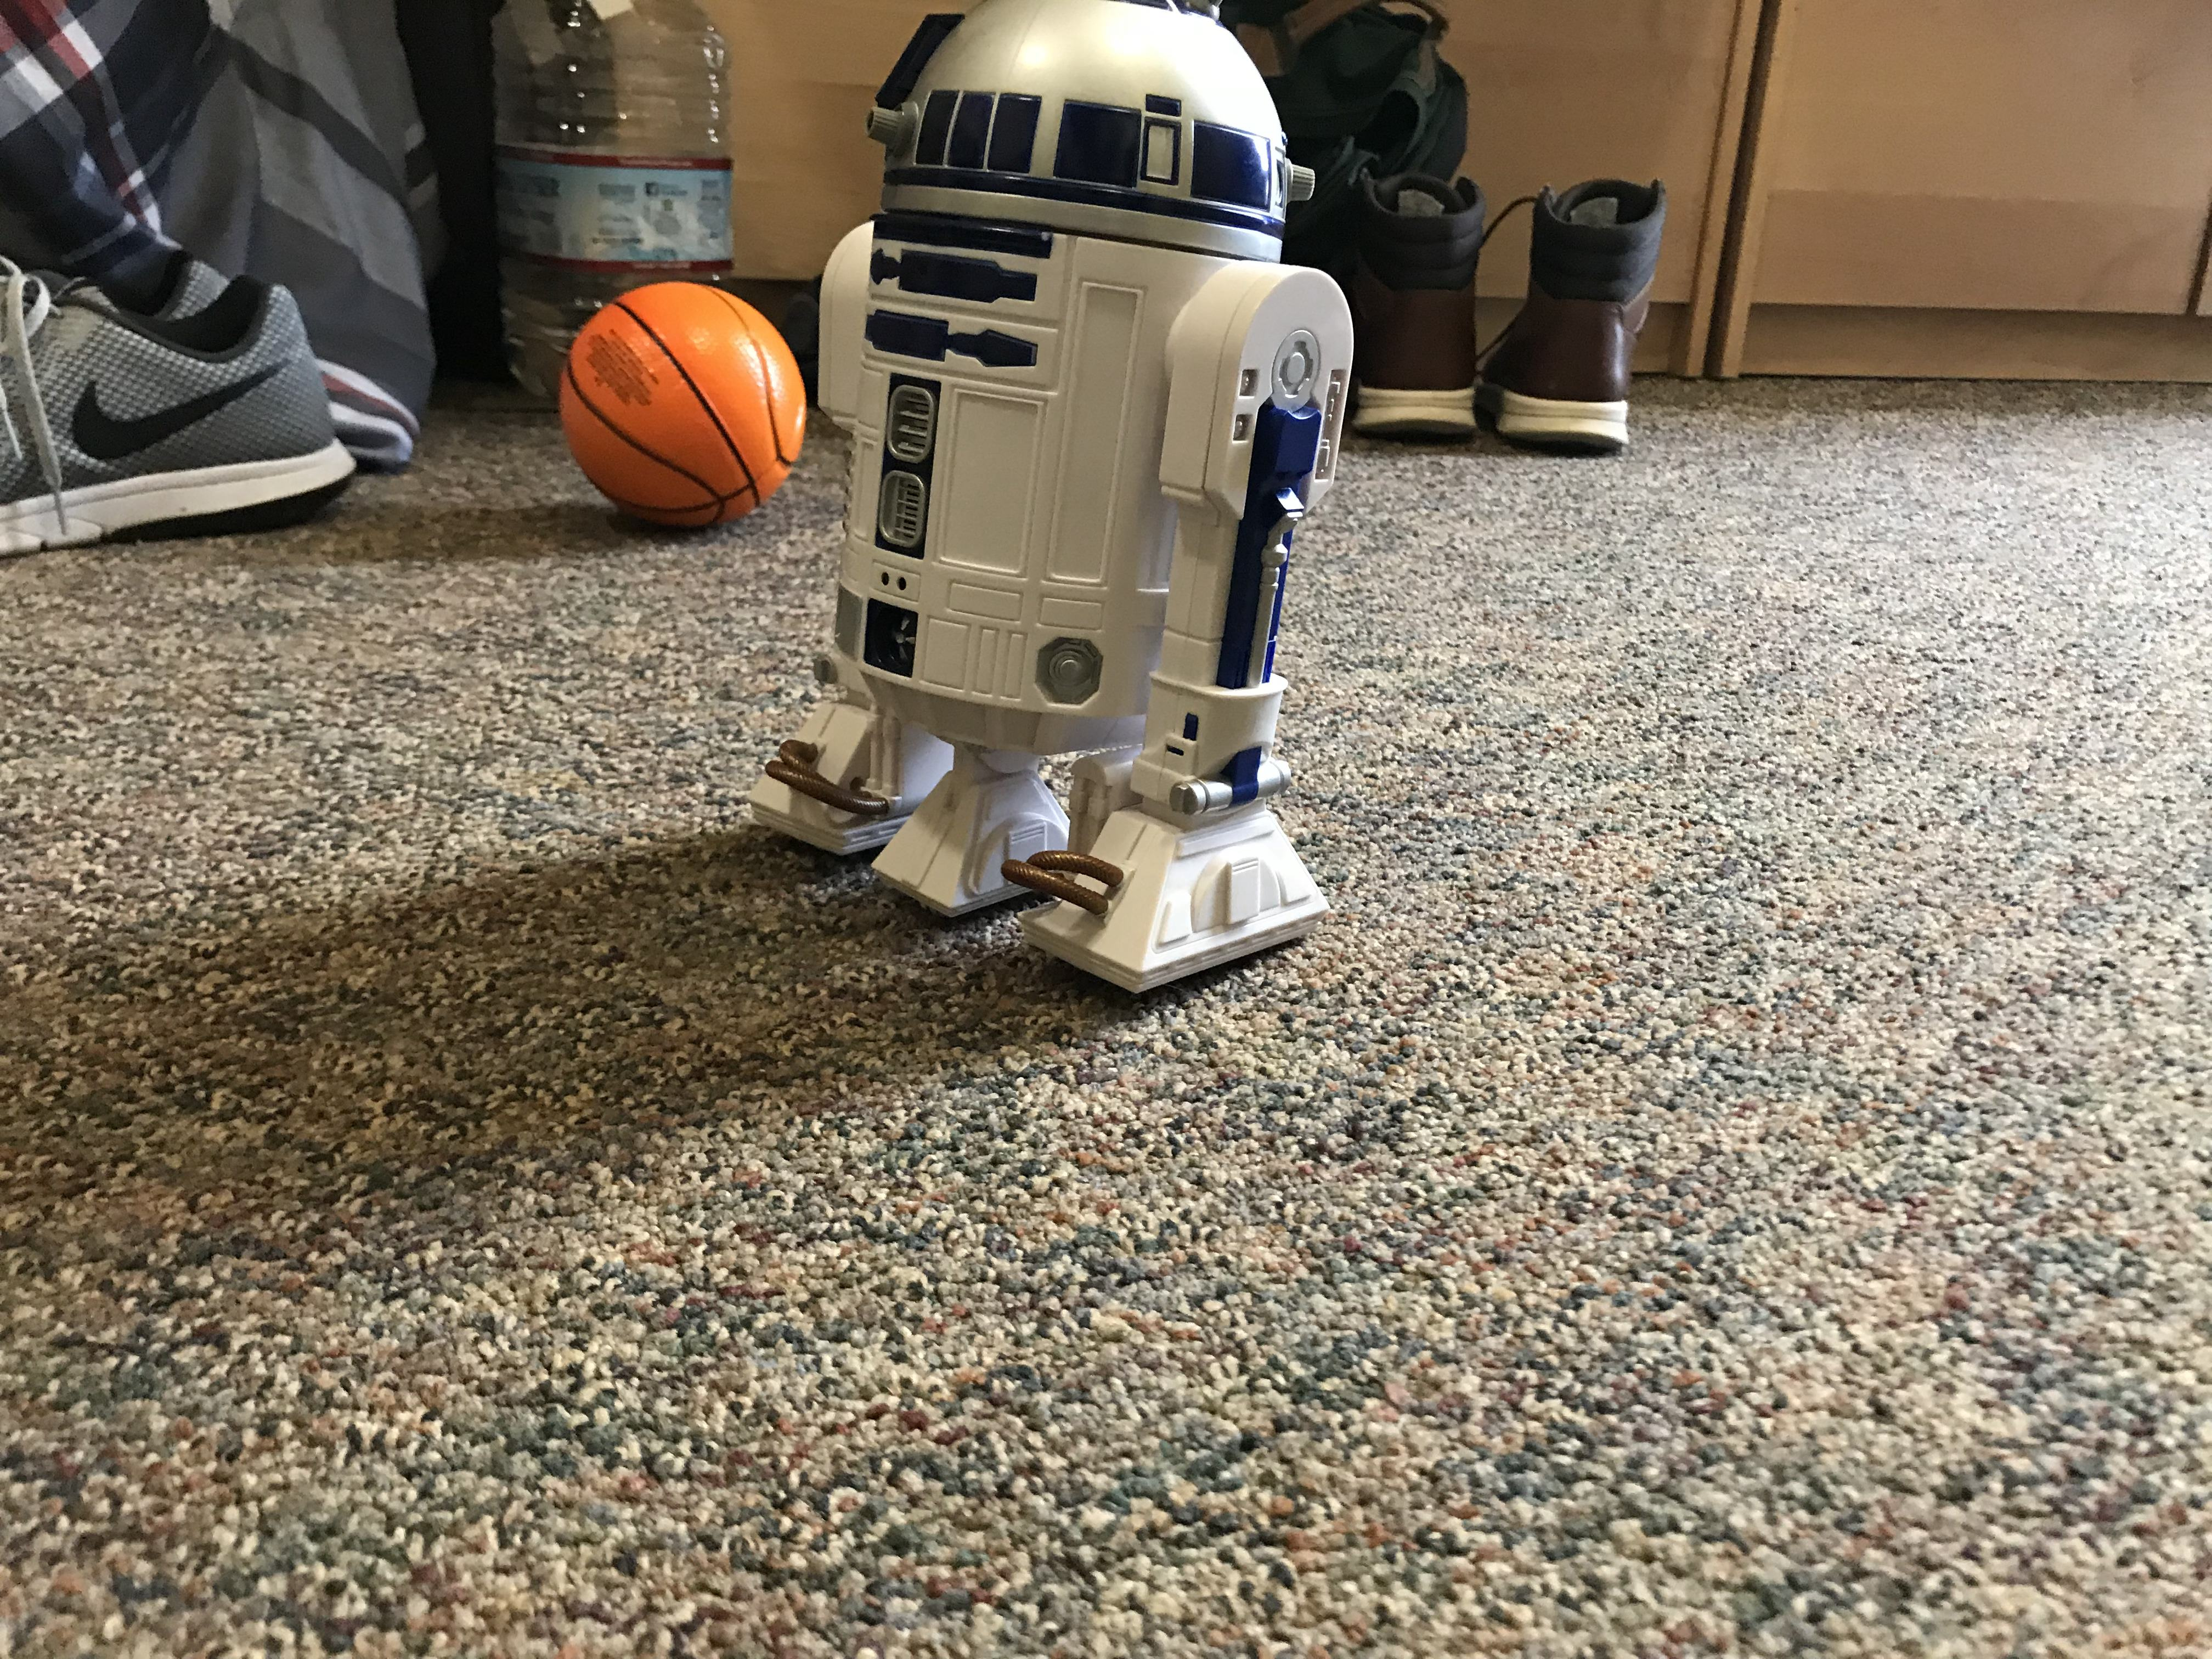r2d2: (752, 0, 1331, 995)
